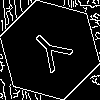Y: (25, 25, 81, 81)
